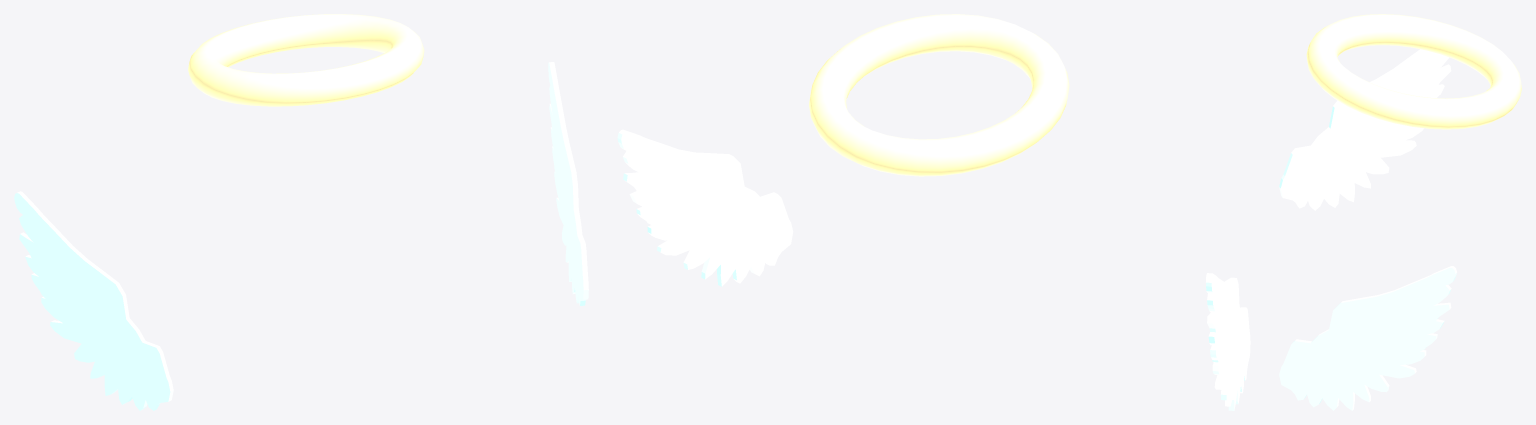
The model's file is Hat_Halo.fbx.
3 renders of one model, left to right at view 1: azimuth 30°, elevation 25°; view 2: azimuth 150°, elevation 25°; view 3: azimuth 270°, elevation 25°, orthographic. The views are drawn at different scales.
Parts seen in each view (by area): view 1: Halo; view 2: Halo; view 3: Halo.
Part boxes in pixels (left/top/right/bottom): Halo: left=14, top=14, right=588, bottom=410; Halo: left=617, top=14, right=1250, bottom=410; Halo: left=1279, top=14, right=1521, bottom=410.
Size of the model in its own units: 367 by 187 by 155.
